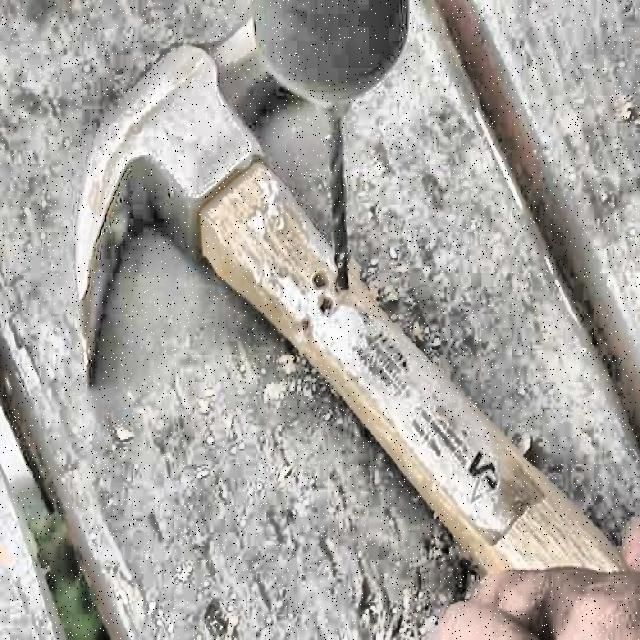hammer: (74, 12, 640, 627)
